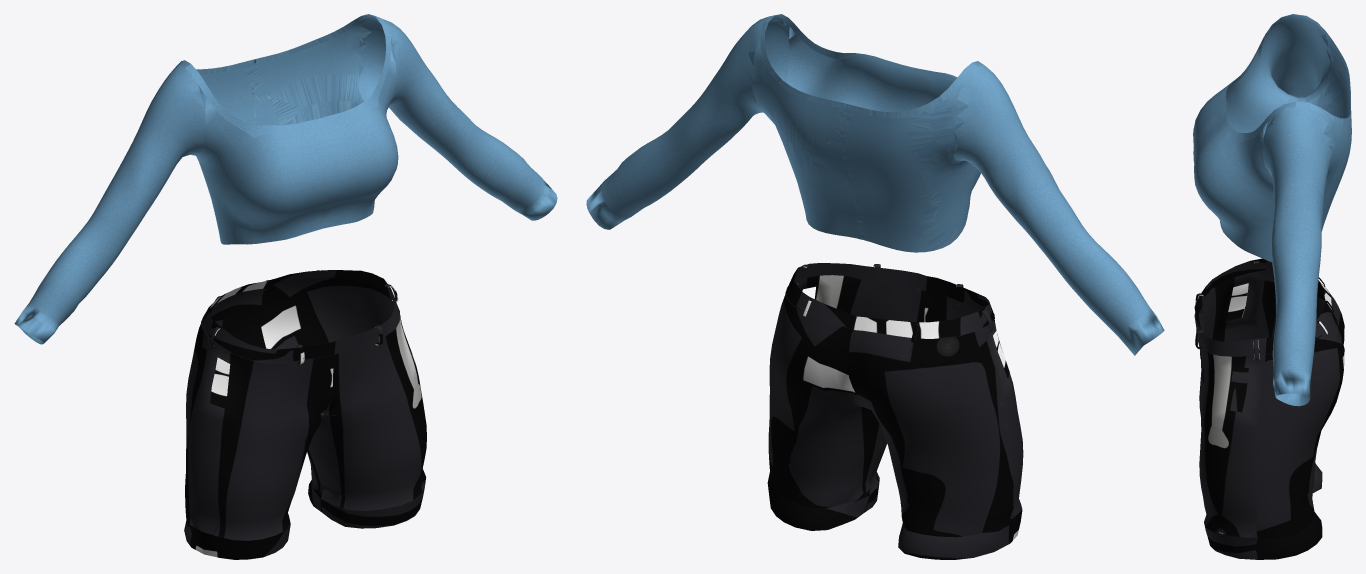
The model's file is crop_top_material_shorts.glb.
3 views of the same model, side by side, from view 1: azimuth 30°, elevation 25°; view 2: azimuth 150°, elevation 25°; view 3: azimuth 270°, elevation 25° (orthographic). The views are drawn at different scales.
Parts seen in each view (by area): view 1: all, all_two; view 2: all, all_two; view 3: all, all_two.
Boxes of the visible parts, x1,y1,x2,y2 form: all: (14, 14, 557, 344); all_two: (184, 270, 426, 559); all: (586, 14, 1164, 355); all_two: (767, 263, 1023, 559); all: (1193, 14, 1351, 406); all_two: (1194, 258, 1344, 559).
Size of the model in its own units: 0.7276 by 0.6054 by 0.1924.
2 materials, 2 textured.
